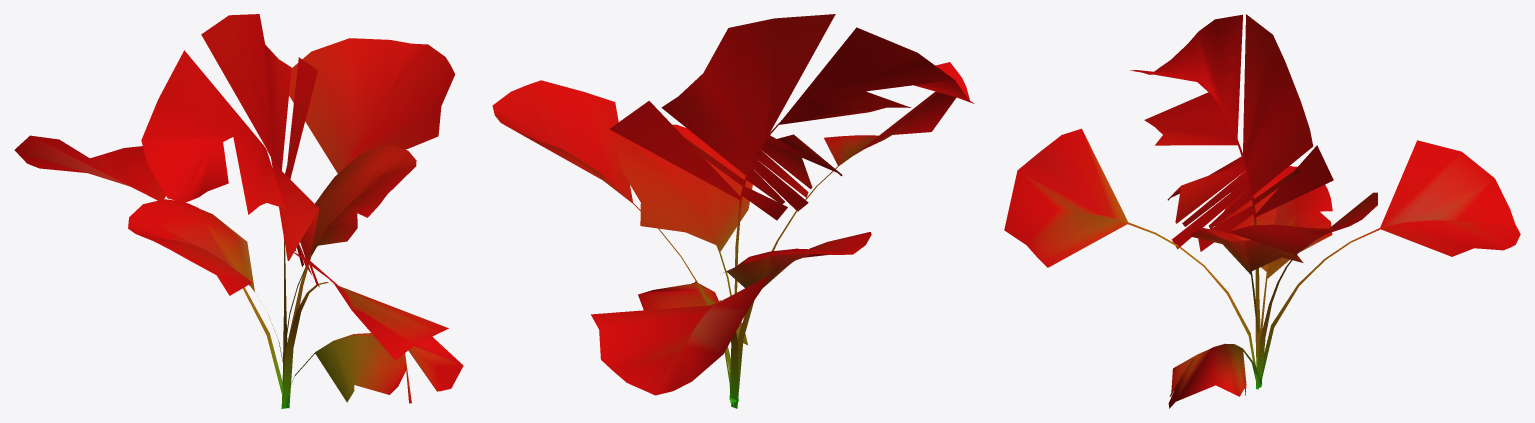
The model's file is Areca Palm_LOD2_Var3_shFjC.fbx.
3 views of the same model, side by side, from view 1: azimuth 30°, elevation 25°; view 2: azimuth 150°, elevation 25°; view 3: azimuth 270°, elevation 25° (orthographic). The views are drawn at different scales.
Visible parts, largest first — view 1: _6bb8_Var3_LOD2; view 2: _6bb8_Var3_LOD2; view 3: _6bb8_Var3_LOD2.
Part boxes in pixels (box(x1,y1,x2,y2)): _6bb8_Var3_LOD2: box(14, 14, 463, 408); _6bb8_Var3_LOD2: box(492, 14, 974, 408); _6bb8_Var3_LOD2: box(1004, 14, 1520, 408).
Size of the model in its own units: 183 by 189 by 262.
